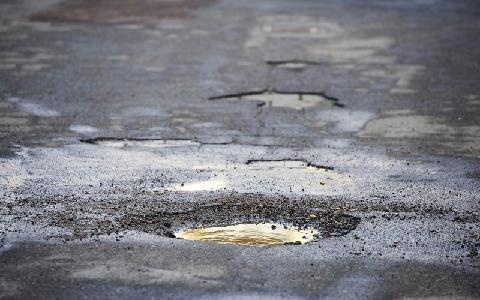pothole: (122, 199, 362, 246), (208, 89, 346, 111), (81, 134, 203, 146), (245, 158, 335, 172), (264, 57, 321, 68)
